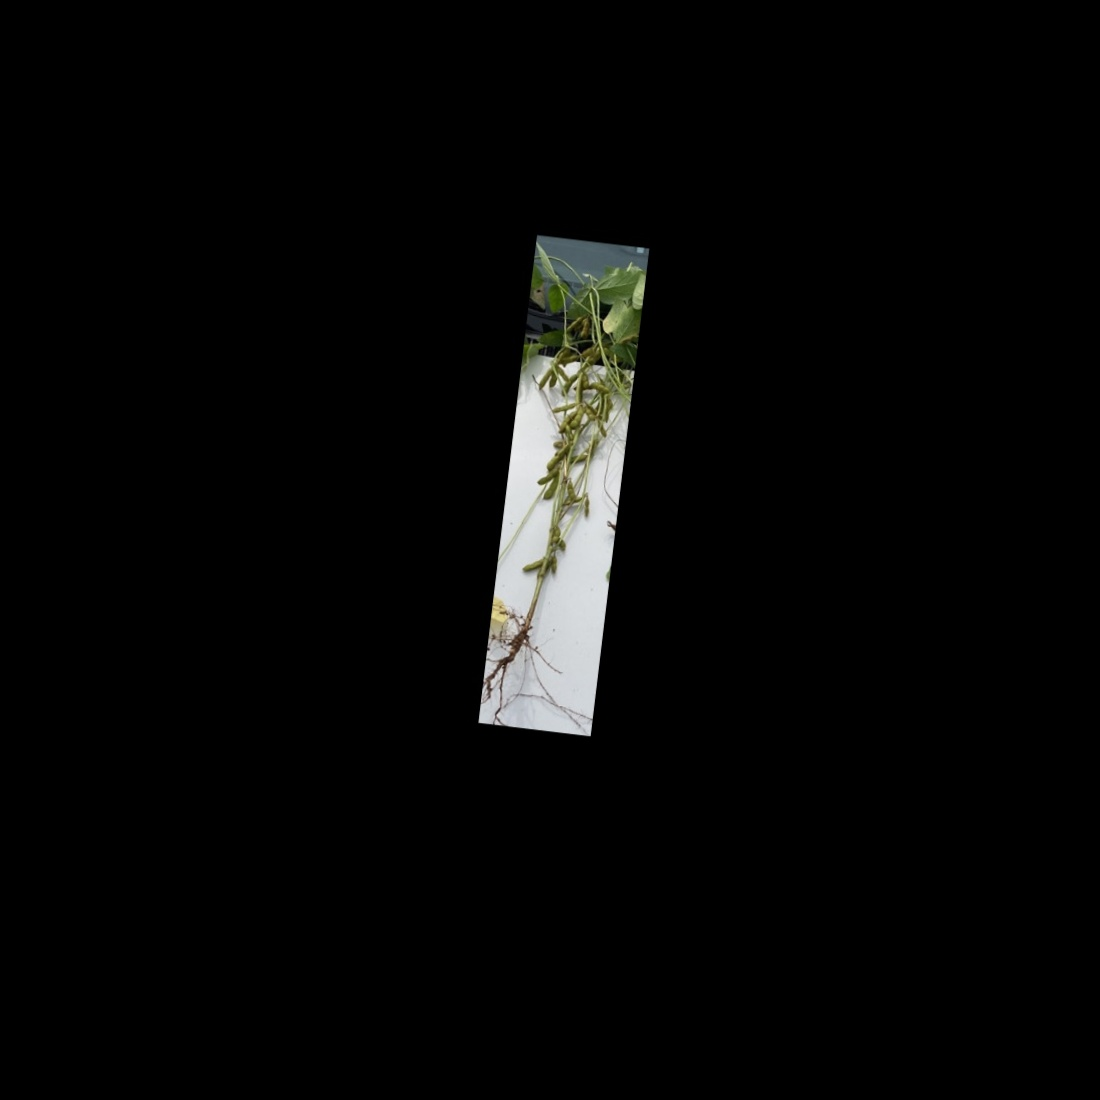pod: (557, 370, 580, 400), (566, 404, 587, 433), (519, 553, 545, 576), (564, 478, 581, 508), (533, 467, 558, 487), (578, 493, 594, 521), (588, 380, 614, 396)
soy: (488, 266, 634, 701)
